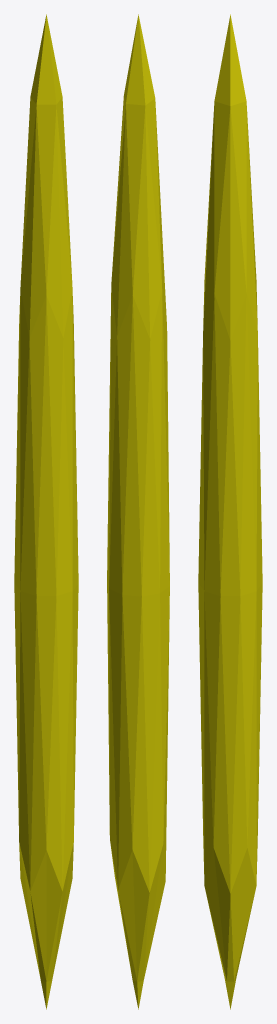
The model's file is Bullet 1.fbx.
3 renders of one model, left to right at view 1: azimuth 90°, elevation 25°; view 2: azimuth 150°, elevation 25°; view 3: azimuth 270°, elevation 25°, orthographic.
Parts seen in each view (by area): view 1: Cube; view 2: Cube; view 3: Cube.
Boxes of the visible parts, <box> form: Cube: <box>14,14,78,1009</box>; Cube: <box>107,14,169,1009</box>; Cube: <box>198,14,262,1009</box>.
Size of the model in its own units: 1.9 by 2 by 34.15.
